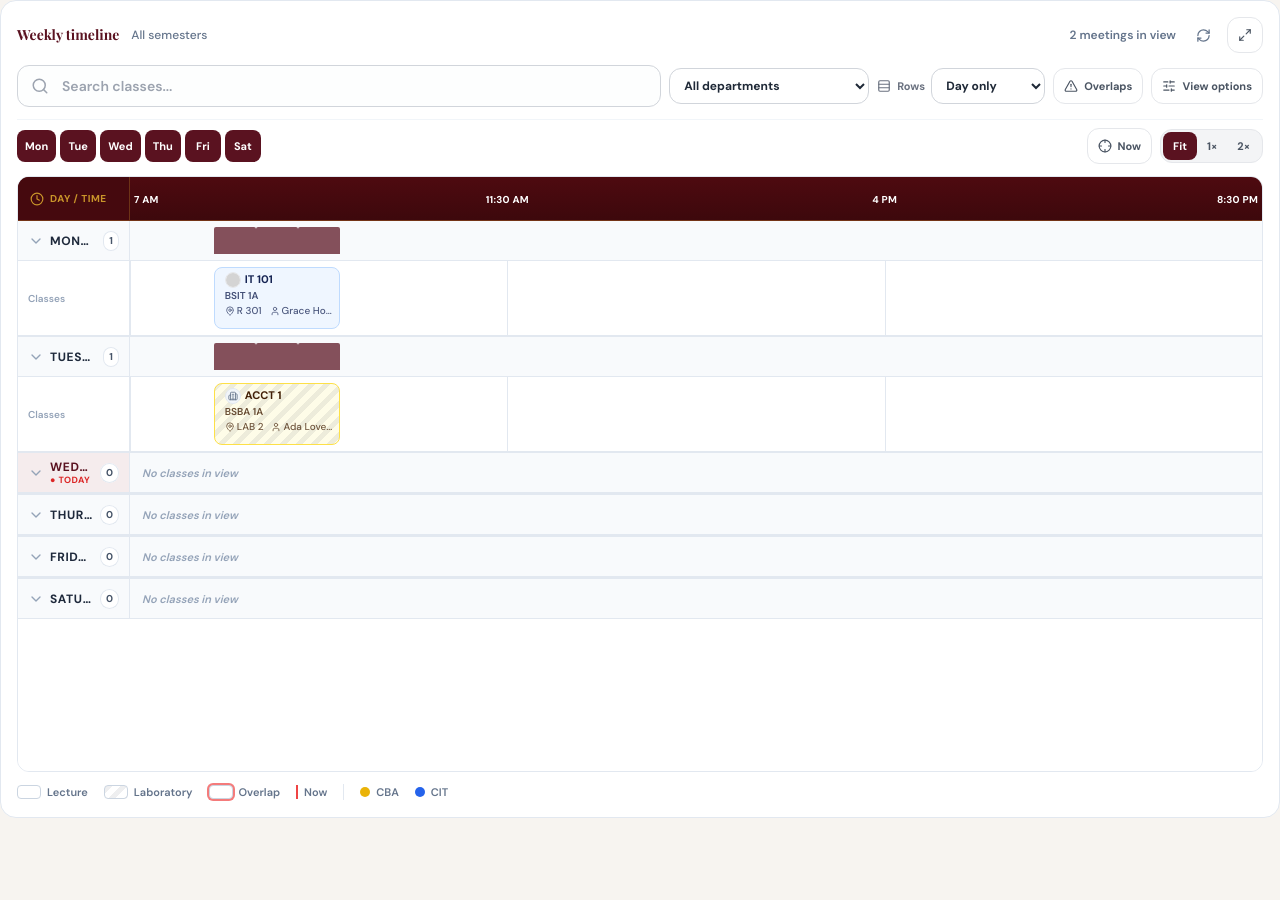
it: VpaaCalendarPage Gantt timeline › reduces time labels on a narrow viewport while keeping classes selectable
The image size is (1280, 900).
expect the text "7 AM" is shown: met, box [130,191,159,206]
expect the text "8:30 AM" is not shown: met
Click the button "IT 101 BSIT 1A R 301 Grace Hopper": click(277, 298) [214,267,340,329]
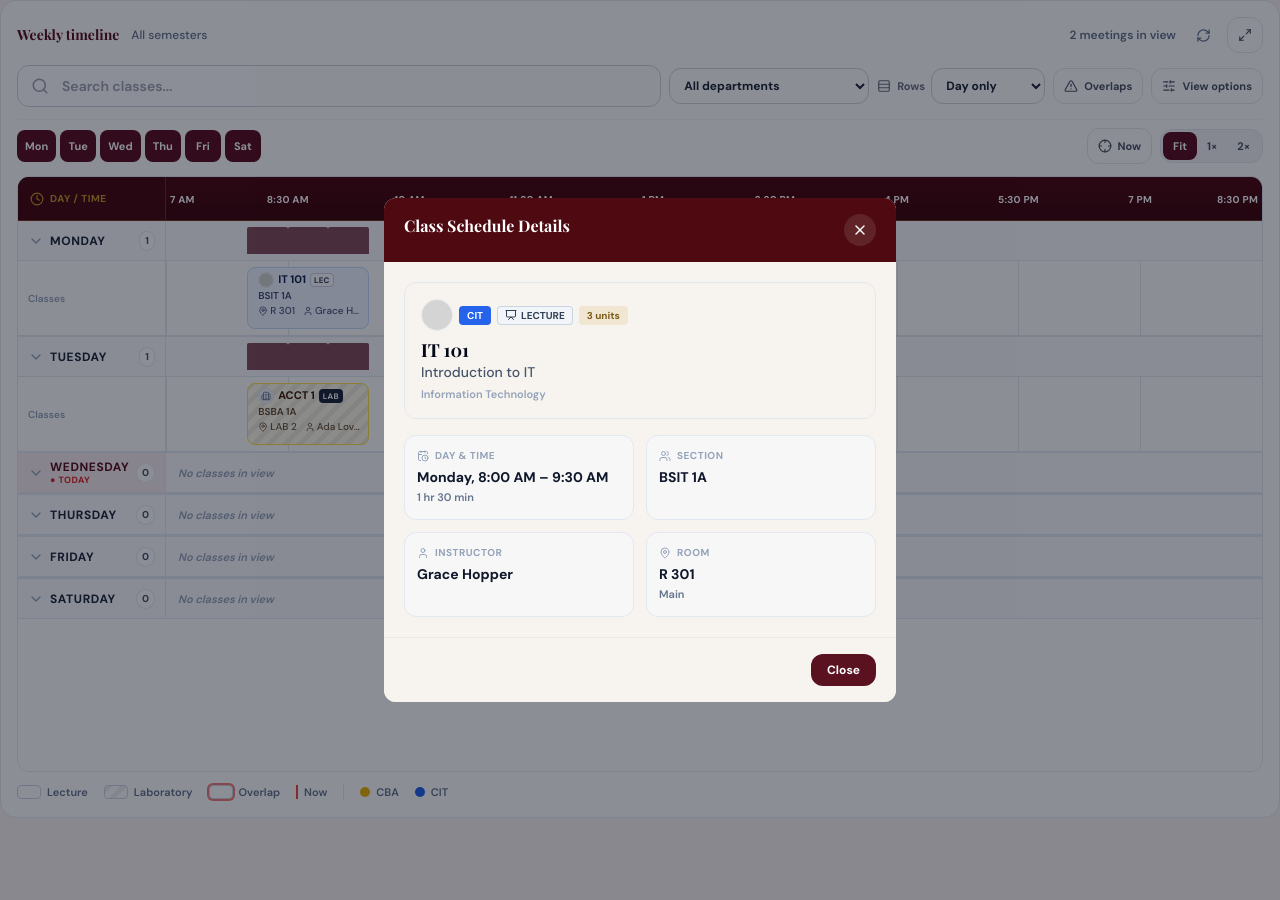
expect the dialog is shown: met, box [384,198,896,702]
expect the text "8:30 AM" is shown: met, box [267,191,309,206]
